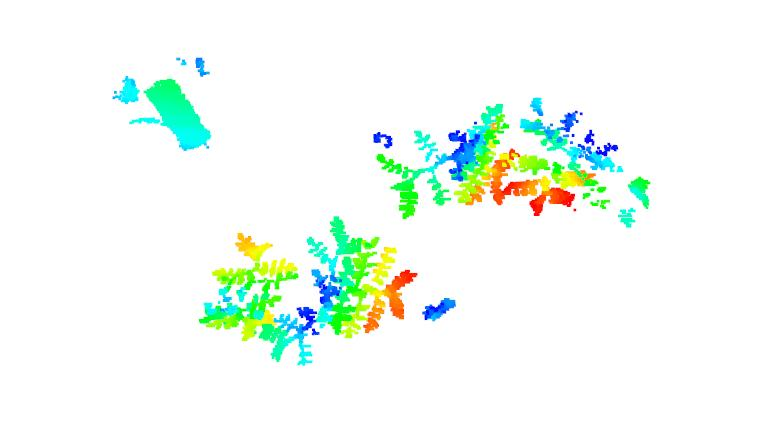chickpea: (267, 218, 420, 361), (376, 102, 510, 220), (511, 97, 621, 218), (212, 232, 301, 292), (201, 294, 279, 341)
